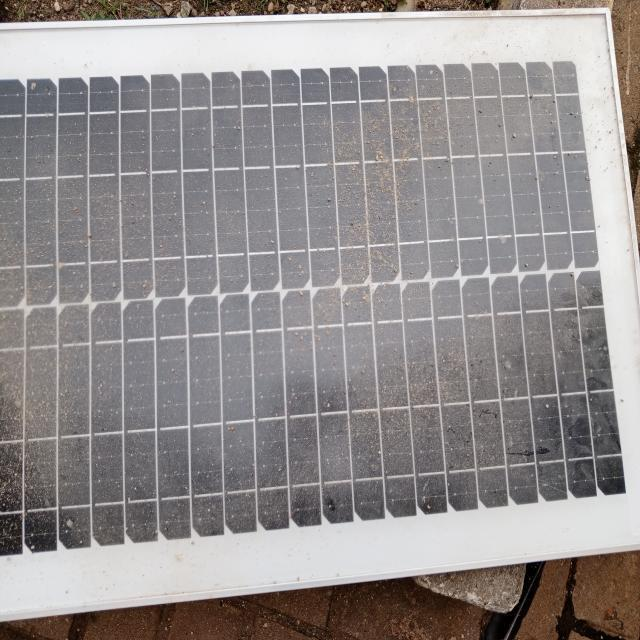Surface Contaminant: (8, 50, 599, 525)
